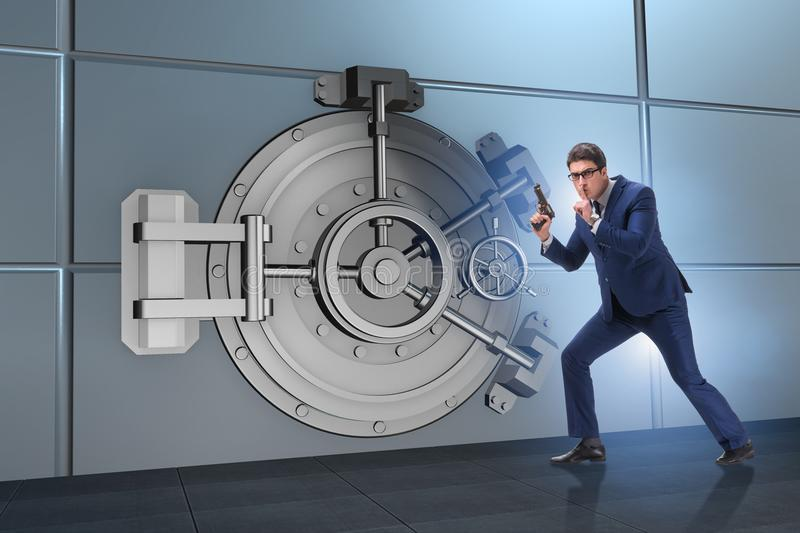criminal: (526, 138, 758, 470)
weapon: (526, 179, 559, 236)
